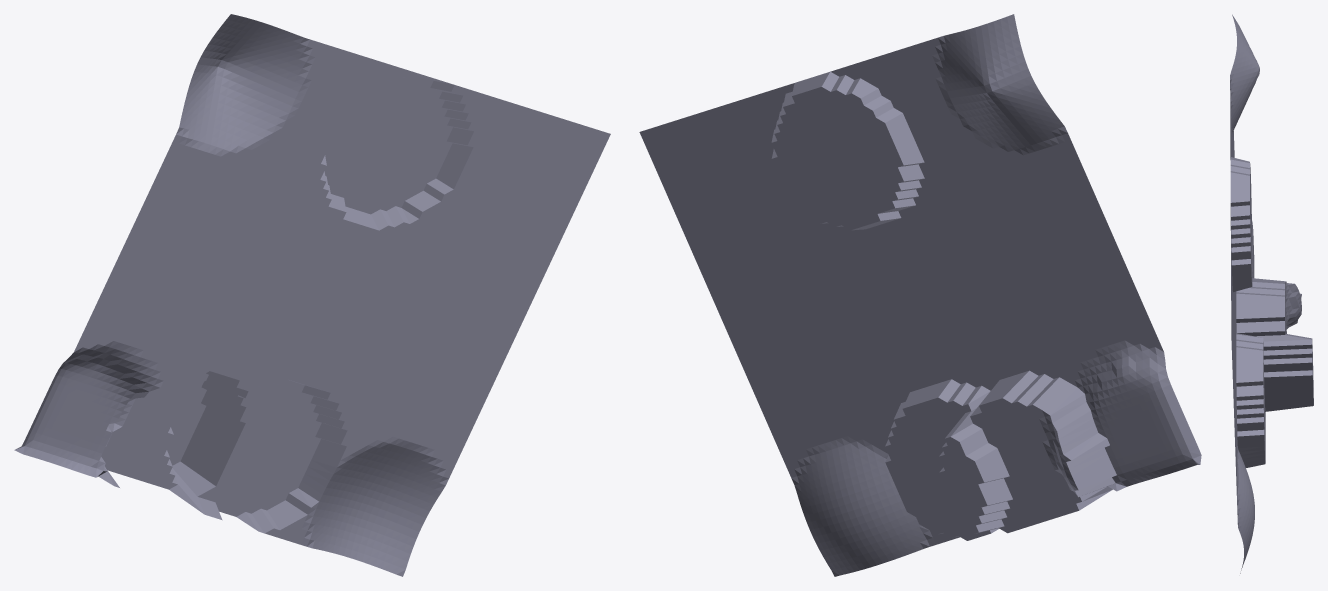
The model's file is terrain.obj.
The picture shows the model from 3 angles, left to right: view 1: azimuth 30°, elevation 25°; view 2: azimuth 150°, elevation 25°; view 3: azimuth 270°, elevation 25°; orthographic projection. The views are drawn at different scales.
Size of the model in its own units: 426 by 426 by 65.64.
